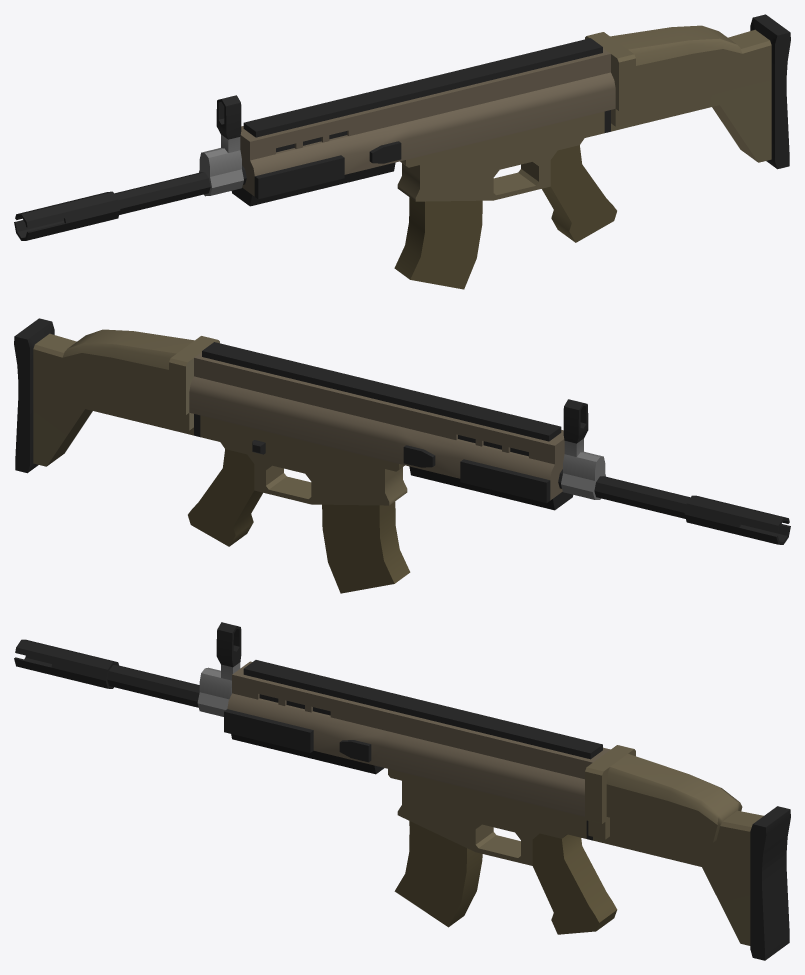
3 renders of one model, top to bottom at view 1: azimuth 30°, elevation 25°; view 2: azimuth 150°, elevation 25°; view 3: azimuth 330°, elevation 25°, orthographic.
Parts seen in each view (by area): view 1: pCylinder2, pCube2; view 2: pCylinder2, pCube2; view 3: pCylinder2, pCube2.
Boxes of the visible parts, x1,y1,x2,y2 form: pCylinder2: [14, 14, 790, 242]; pCube2: [394, 197, 482, 289]; pCylinder2: [14, 318, 790, 546]; pCube2: [322, 501, 410, 593]; pCylinder2: [14, 622, 790, 960]; pCube2: [394, 821, 482, 927].
Size of the model in its own units: 8.86 by 2.71 by 0.6965.
